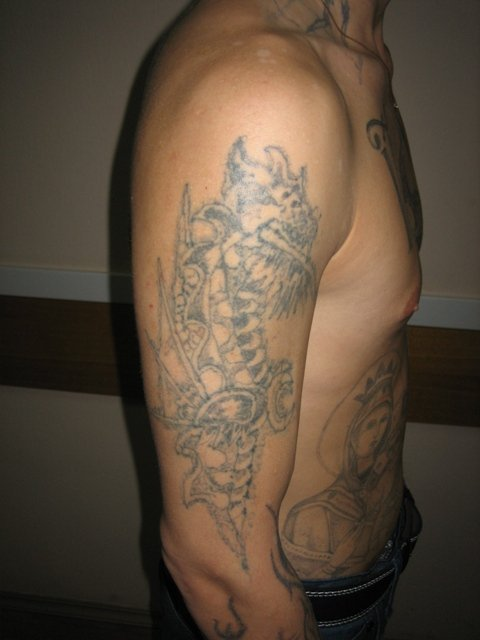tatu6_drakon: (144, 137, 326, 565)
